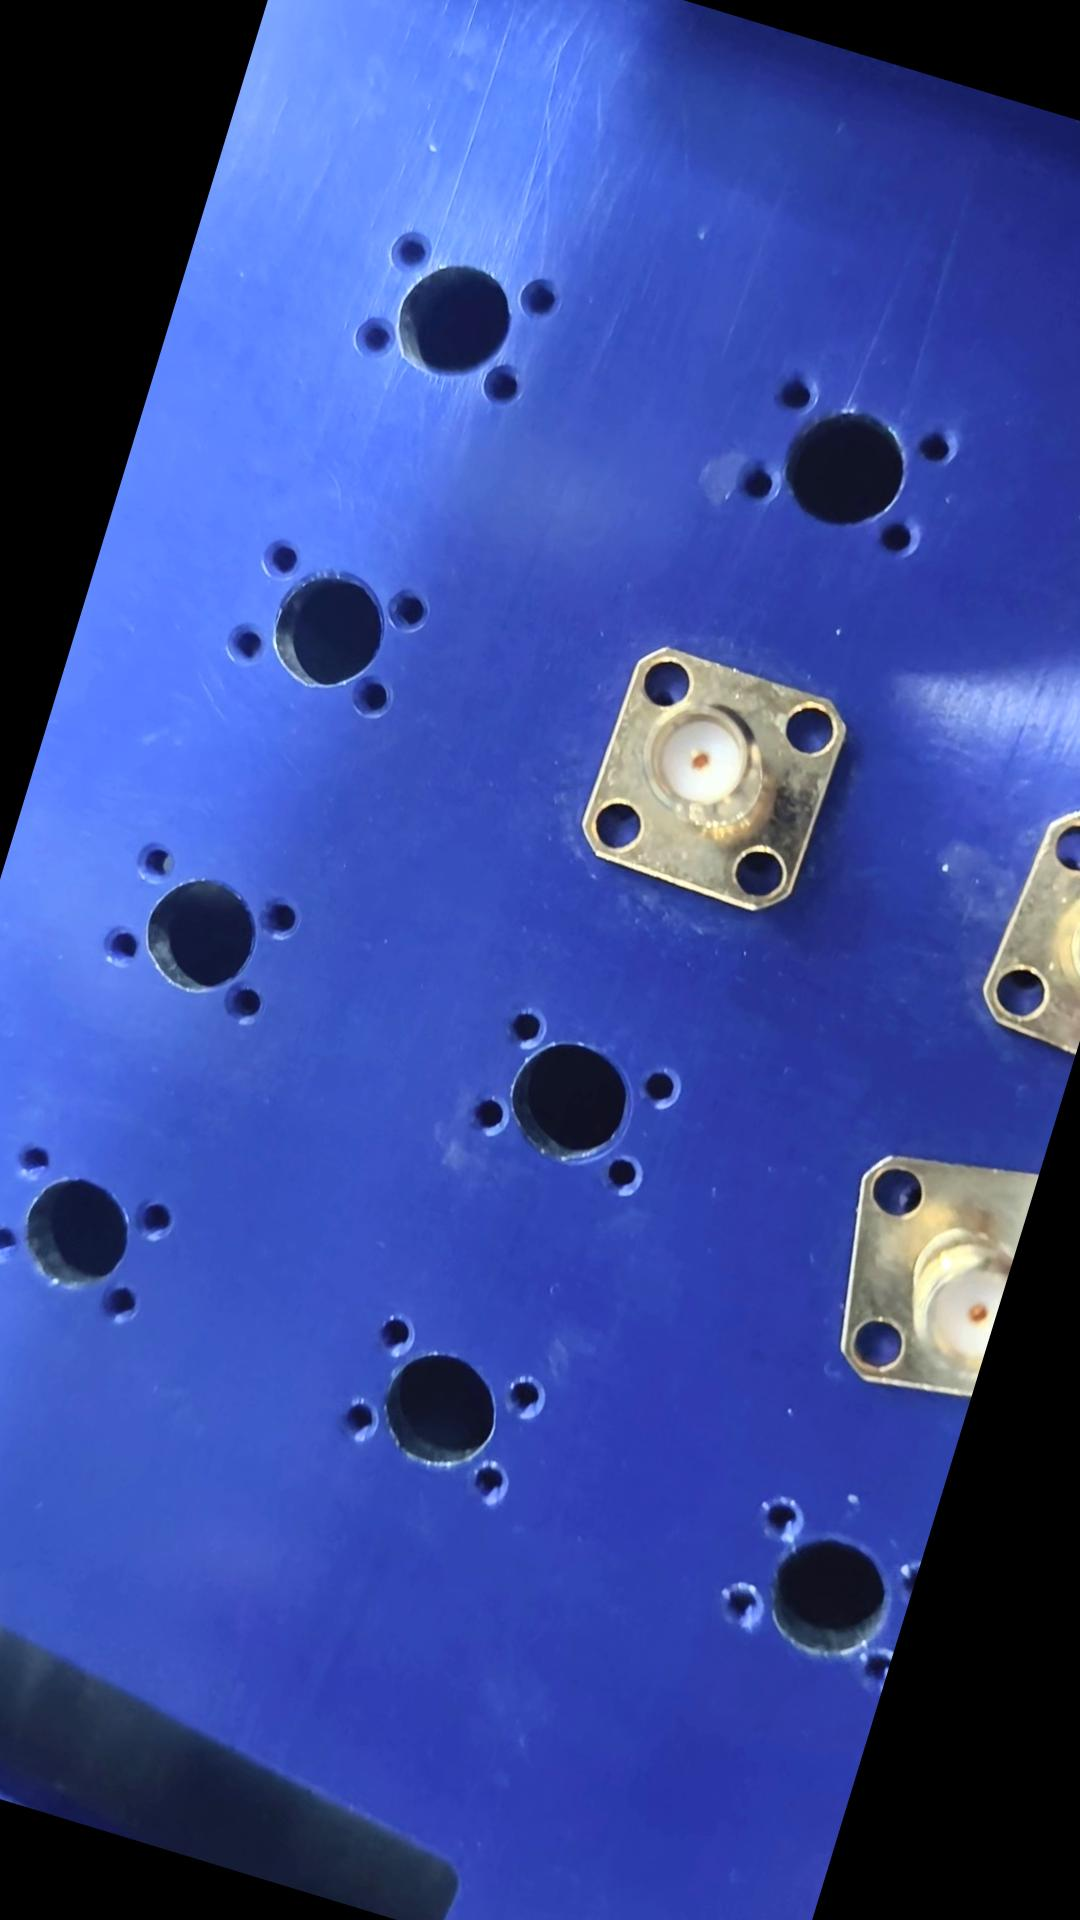SMA: (429, 570, 728, 861)
